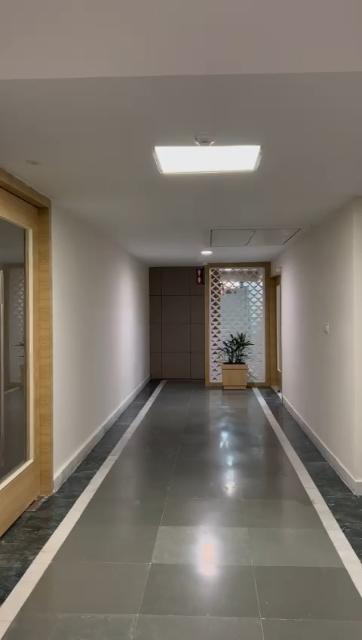door: (0, 173, 46, 504)
floor: (0, 383, 362, 640)
object: (222, 336, 250, 390)
wall: (277, 198, 362, 483), (56, 210, 146, 470)
